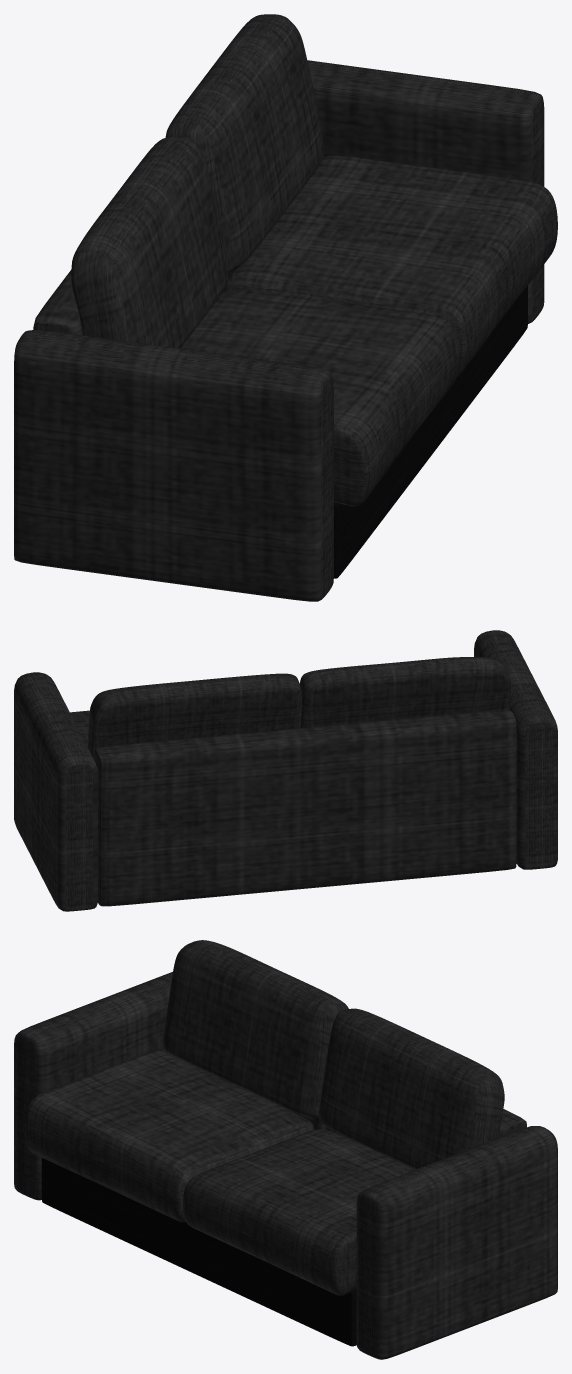
File: Sofa.fbx
The picture shows the model from 3 angles, top to bottom: view 1: azimuth 30°, elevation 25°; view 2: azimuth 150°, elevation 25°; view 3: azimuth 270°, elevation 25°; orthographic projection. The views are drawn at different scales.
Visible parts, largest first — view 1: Divano_FINAL; view 2: Divano_FINAL; view 3: Divano_FINAL.
Part boxes in pixels (bbox=[...]): Divano_FINAL: bbox=[14, 14, 557, 601]; Divano_FINAL: bbox=[14, 630, 557, 911]; Divano_FINAL: bbox=[14, 940, 557, 1359].
Bounding box in the file's own units: 203 × 85.99 × 196.
